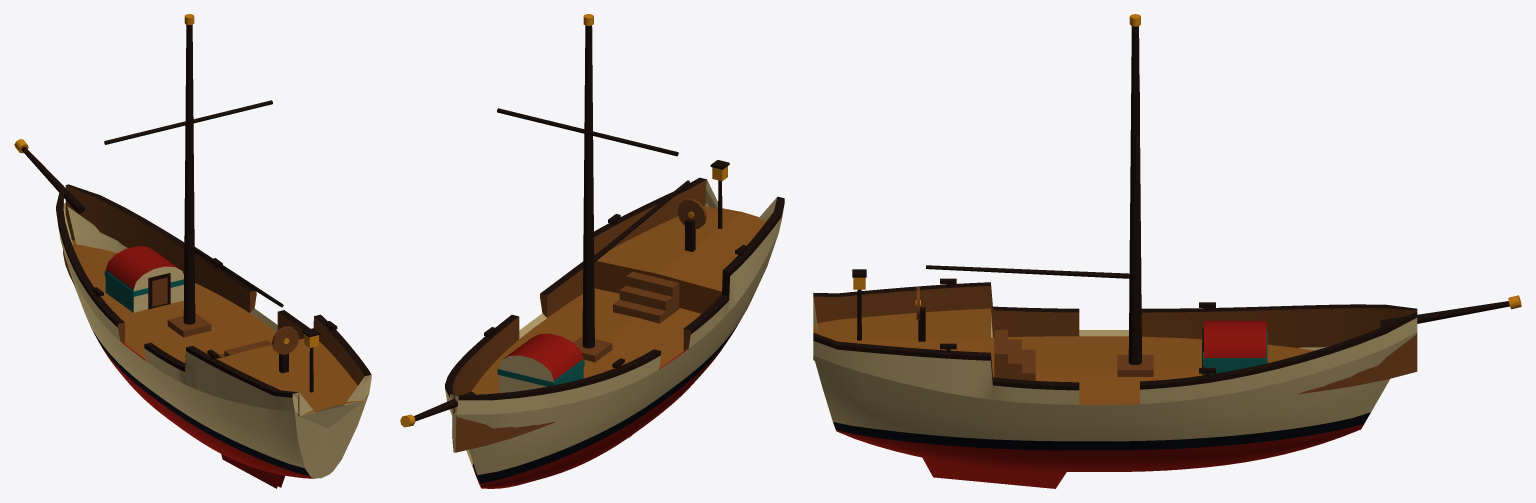
Rendered from boat_placeholder.fbx.
The picture shows the model from 3 angles, left to right: view 1: azimuth 30°, elevation 25°; view 2: azimuth 150°, elevation 25°; view 3: azimuth 270°, elevation 25°; orthographic projection. The views are drawn at different scales.
Visible parts, largest first — view 1: Hull, Deck; view 2: Hull, Deck; view 3: Hull, Deck.
Part boxes in pixels (x1,y1,x2,y2): Hull: (14, 14, 371, 488); Deck: (72, 240, 362, 416); Hull: (400, 14, 784, 488); Deck: (471, 206, 766, 394); Hull: (813, 14, 1521, 488); Deck: (813, 308, 1313, 404).
Size of the model in its own units: 5.4 by 12.92 by 17.59.
